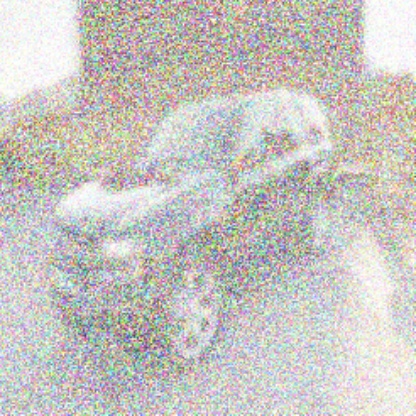Vehicle: (49, 86, 350, 380)
